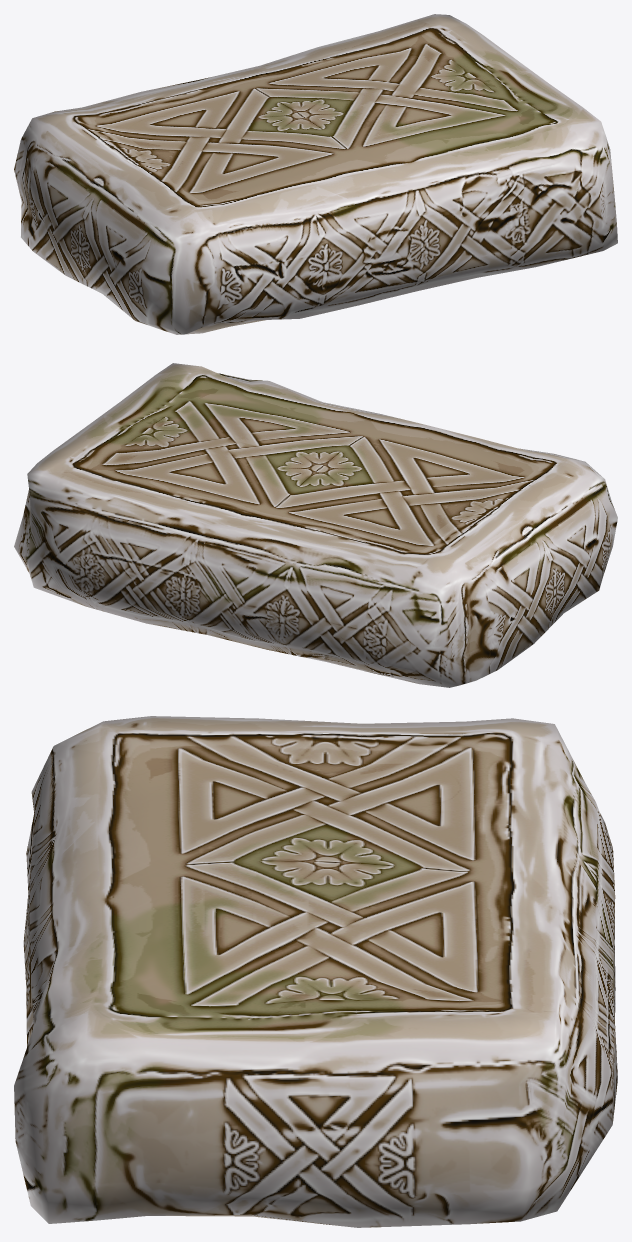
The model's file is AncRock2F.fbx.
3 renders of one model, top to bottom at view 1: azimuth 30°, elevation 25°; view 2: azimuth 150°, elevation 25°; view 3: azimuth 270°, elevation 25°, orthographic. The views are drawn at different scales.
Visible parts, largest first — view 1: AncRock2_LOD0; view 2: AncRock2_LOD0; view 3: AncRock2_LOD0.
Part boxes in pixels (x1,y1,x2,y2): AncRock2_LOD0: (14, 14, 617, 334); AncRock2_LOD0: (14, 363, 617, 687); AncRock2_LOD0: (14, 716, 617, 1227).
Size of what is drawn, in the model's own units: 126 by 34.76 by 88.21.
